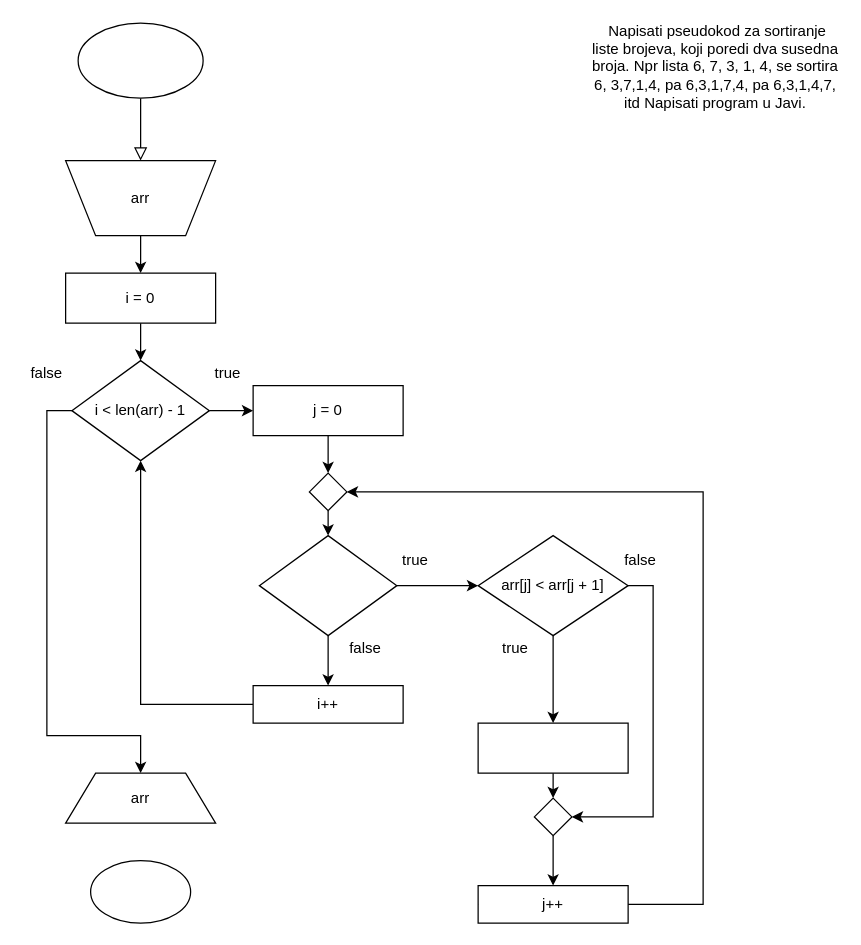
Some shapes in this 861 by 945 pixel diagram are drawn without their labels. The shapes that lost their labels are listed below. From the top down, each one's centre as x and y in pixels, then its label:
(x=140, y=60): start
(x=327, y=585): j < len(arr) - i - 1
(x=552, y=747): swap(arr[j], arr[j + 1])
(x=140, y=891): end
